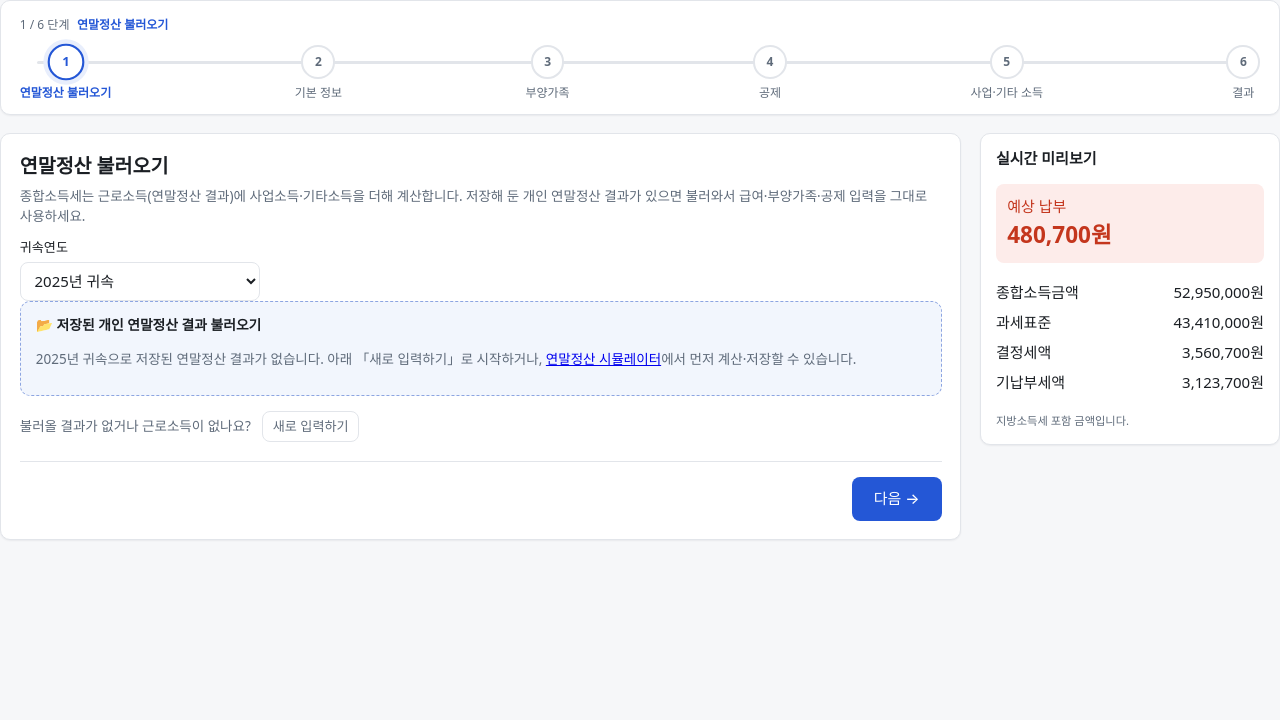
종합소득세 시뮬레이터 › 공제 단계에서 근로소득자 전용 공제를 안내한다
Click the button with aria-label "4단계 공제".
click(770, 74)  # box [753, 45, 787, 102]
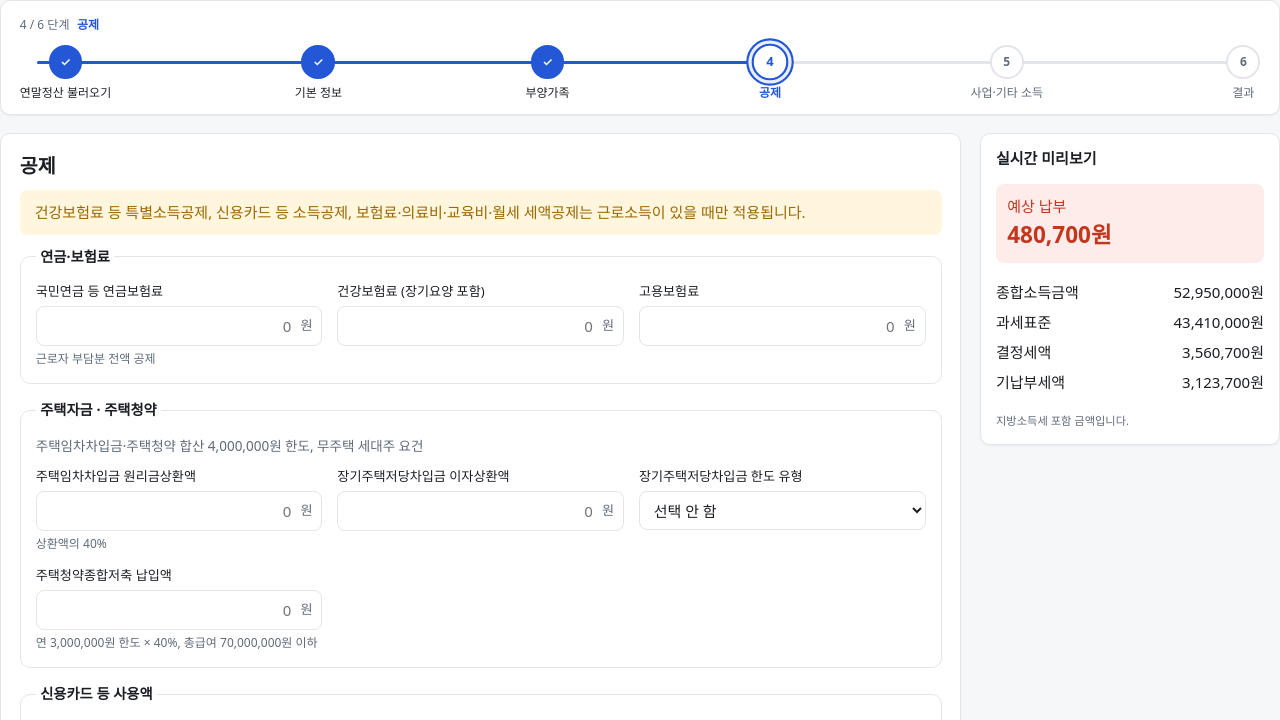
Now the text "근로소득이 있을 때만 적용됩니다" is shown, box [35, 202, 806, 222]
